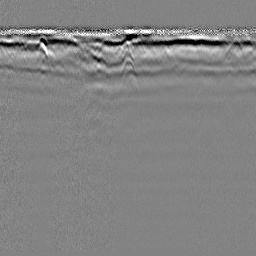cavity: (118, 56, 137, 77)
